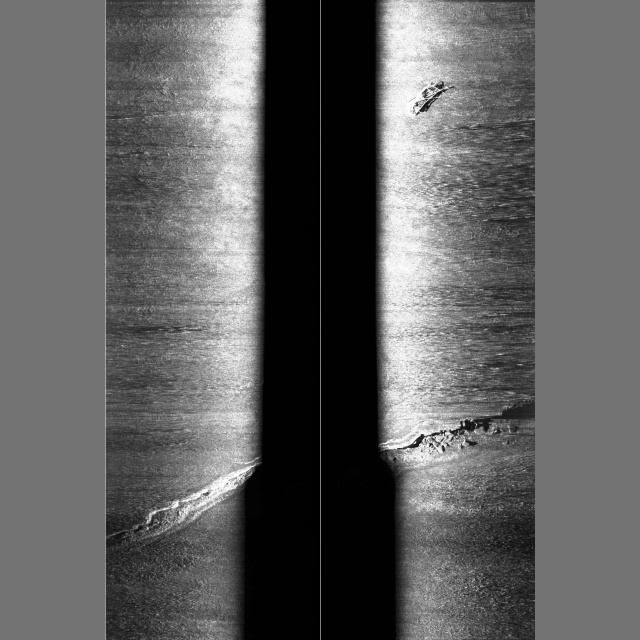Shipwreck: (407, 81, 451, 117)
